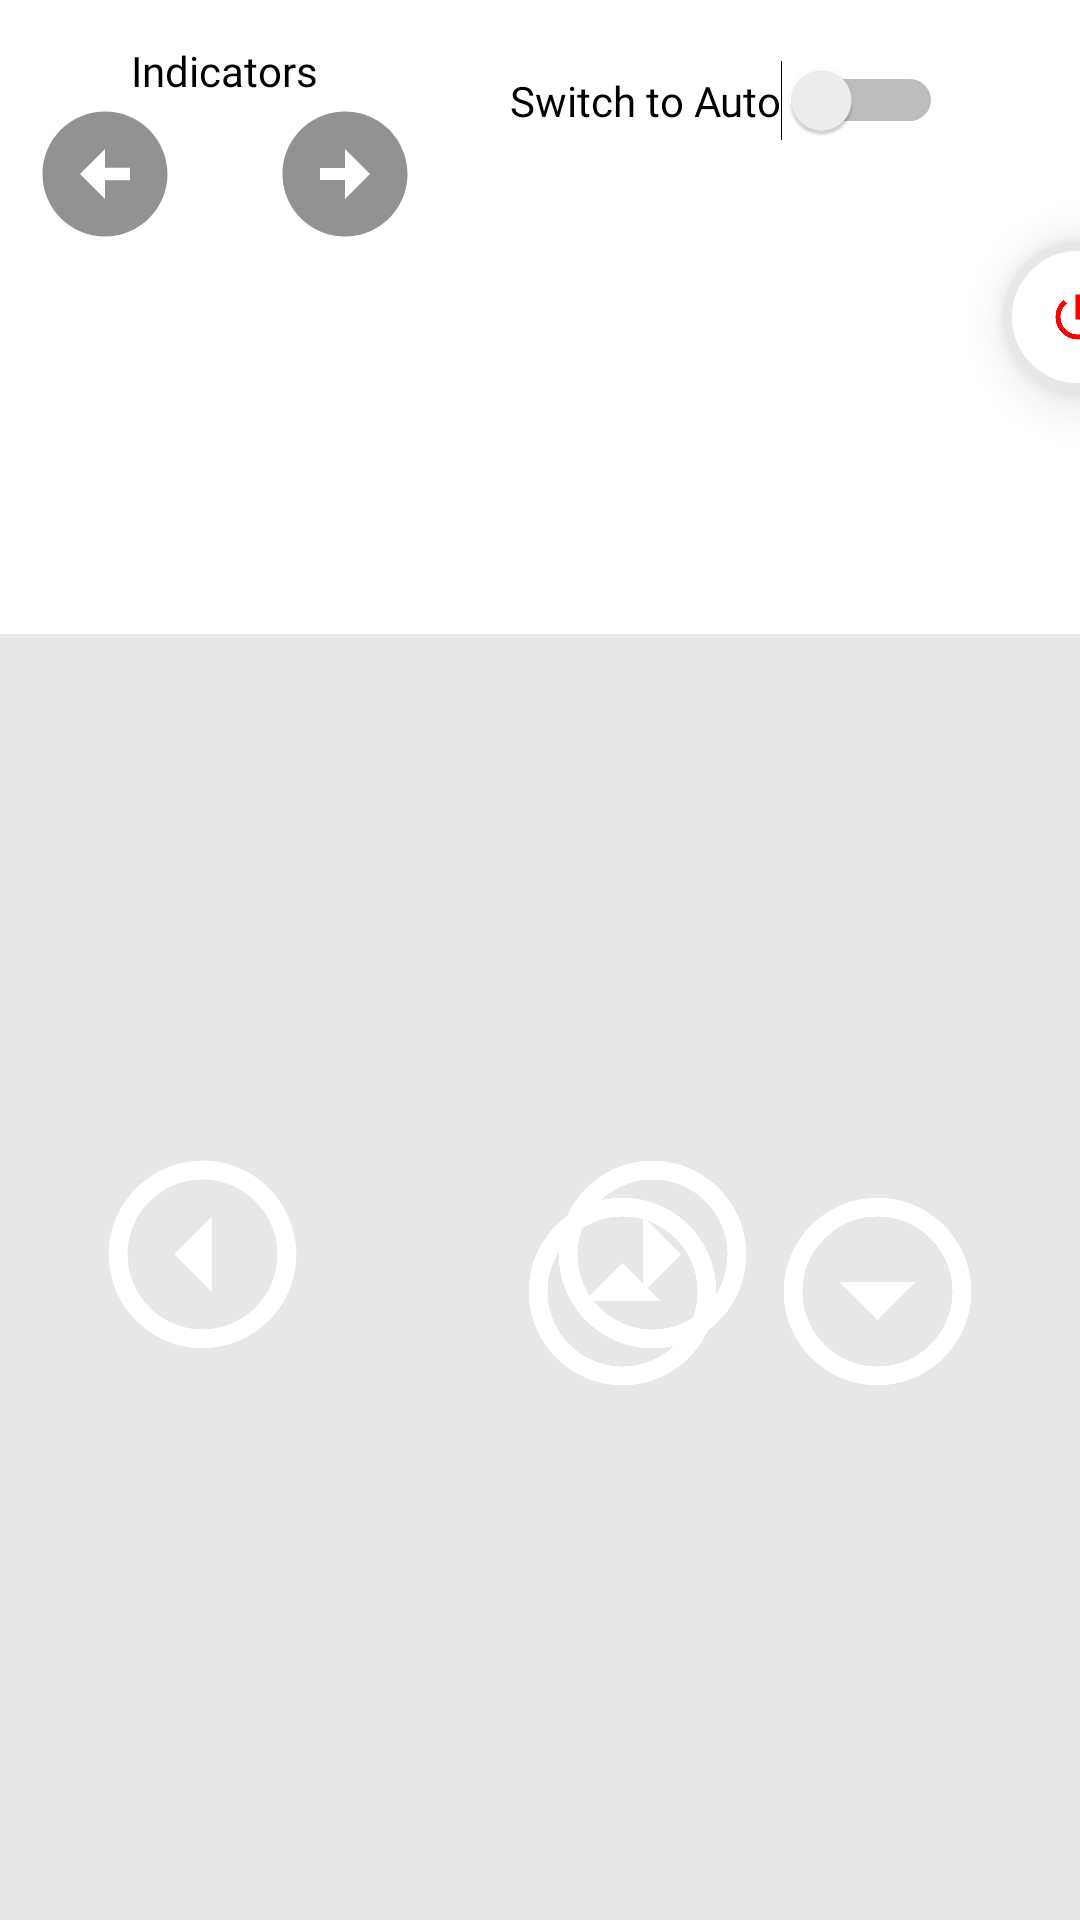

Named icons in this screenshot (1080 × 1920) and their centers, [x,y]:
arrow left: [105,174]
arrow right: [345,174]
